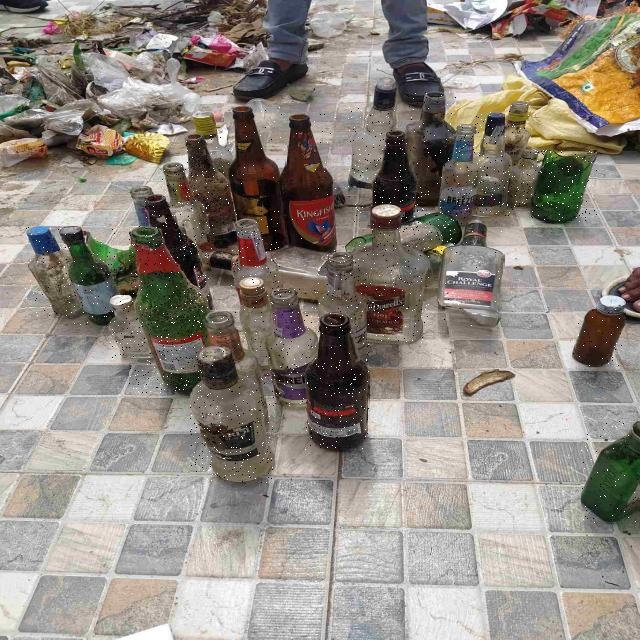glass: (130, 226, 207, 393), (190, 346, 273, 483), (353, 204, 429, 343), (306, 314, 369, 450), (229, 106, 286, 249), (145, 194, 212, 309), (281, 114, 336, 253), (438, 219, 504, 327), (265, 288, 318, 408), (186, 134, 237, 247), (582, 423, 639, 523), (406, 92, 456, 205), (58, 227, 115, 325), (163, 162, 215, 262), (26, 227, 83, 317), (319, 253, 367, 358), (531, 151, 598, 222), (205, 312, 261, 388), (475, 112, 513, 216), (373, 130, 415, 223), (349, 107, 395, 188), (232, 219, 280, 291), (440, 124, 476, 218), (238, 277, 272, 369), (573, 310, 626, 366), (108, 296, 151, 359), (401, 213, 462, 252), (510, 147, 540, 207), (505, 101, 531, 164)
